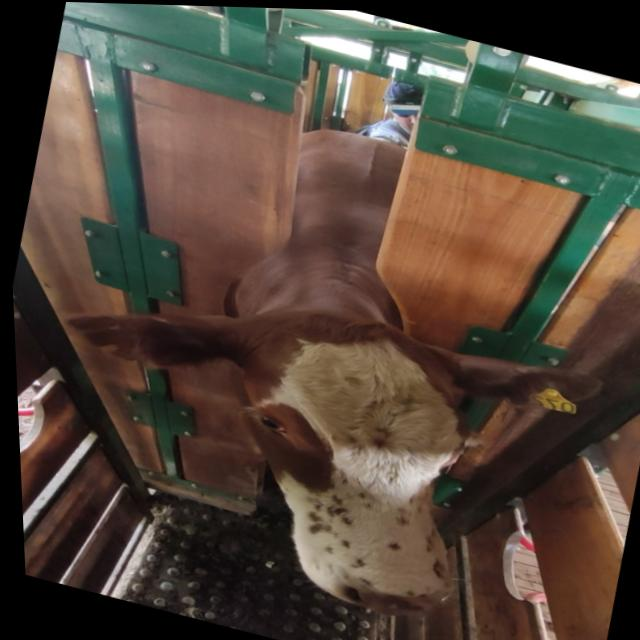cowFace: (203, 297, 500, 626)
